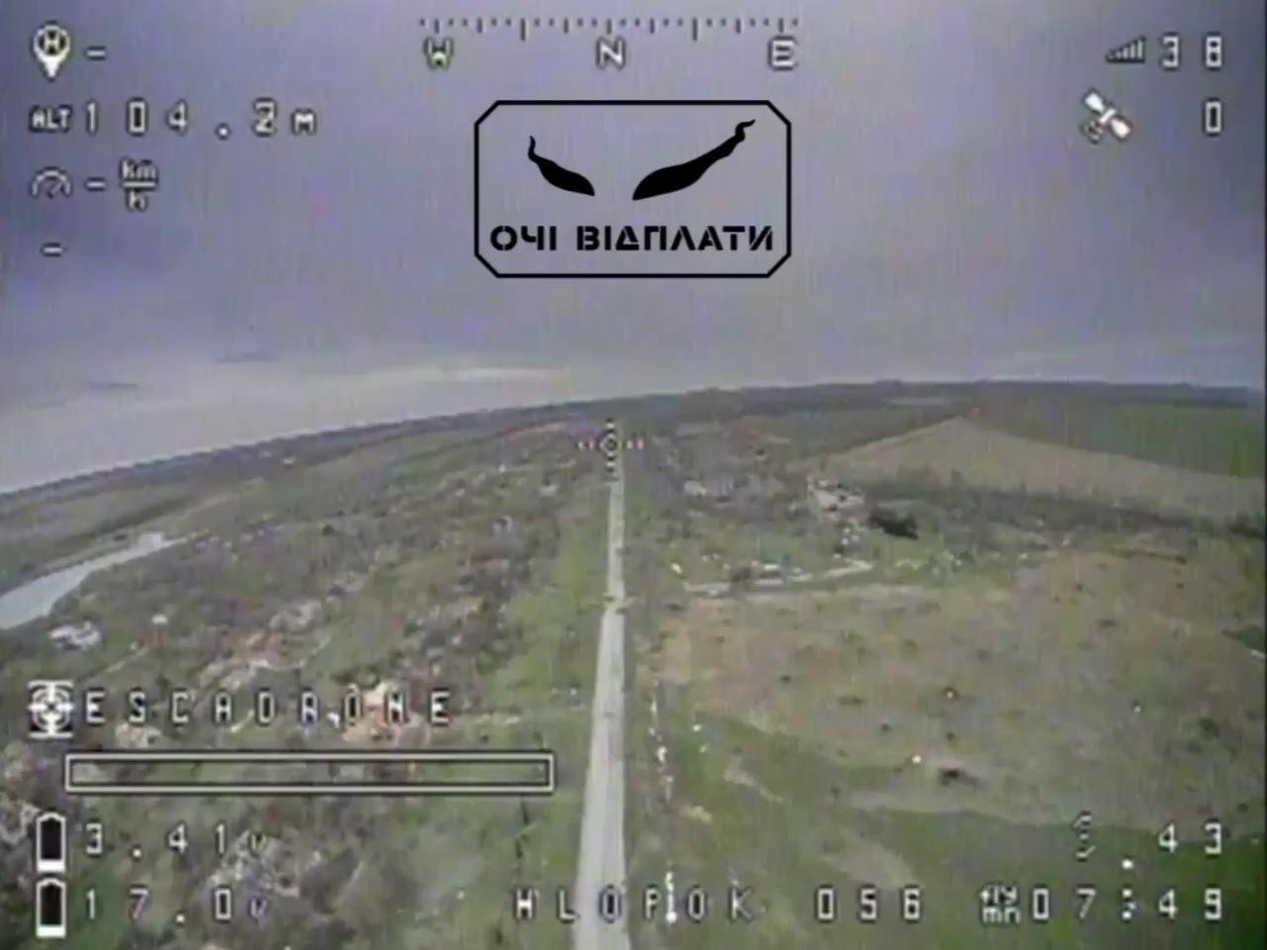vehicle: (615, 604, 628, 616), (601, 590, 614, 601)
